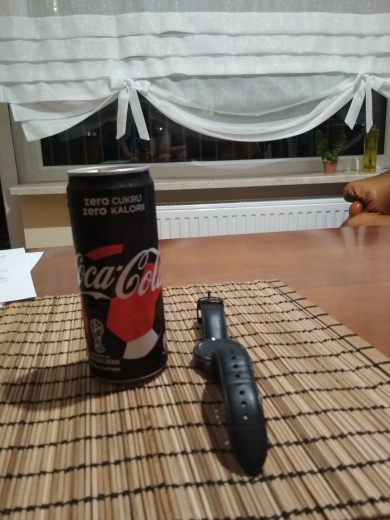colazero: (52, 153, 175, 387)
